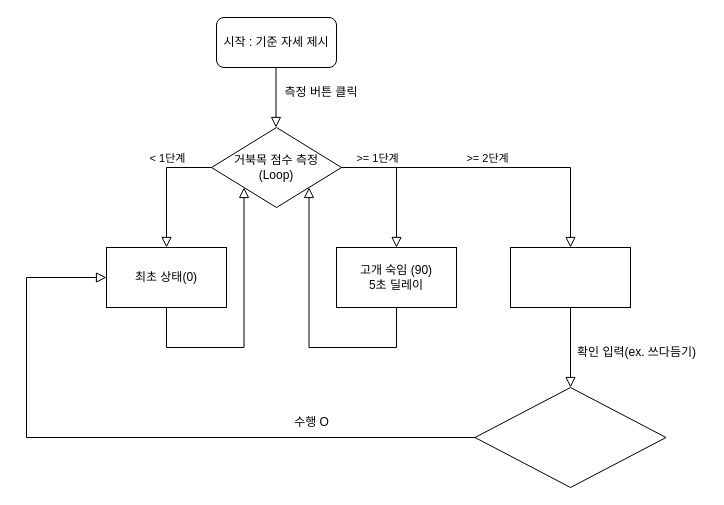
Image size: 724x505. Some labels were removed from this diagram. The centre of each missing label's shape, as x and y in pixels:
고개 숙임 (180) 파카파카 알림: the point at 570,277
자세 교정 세션 (스트레칭 유도): the point at 570,437
